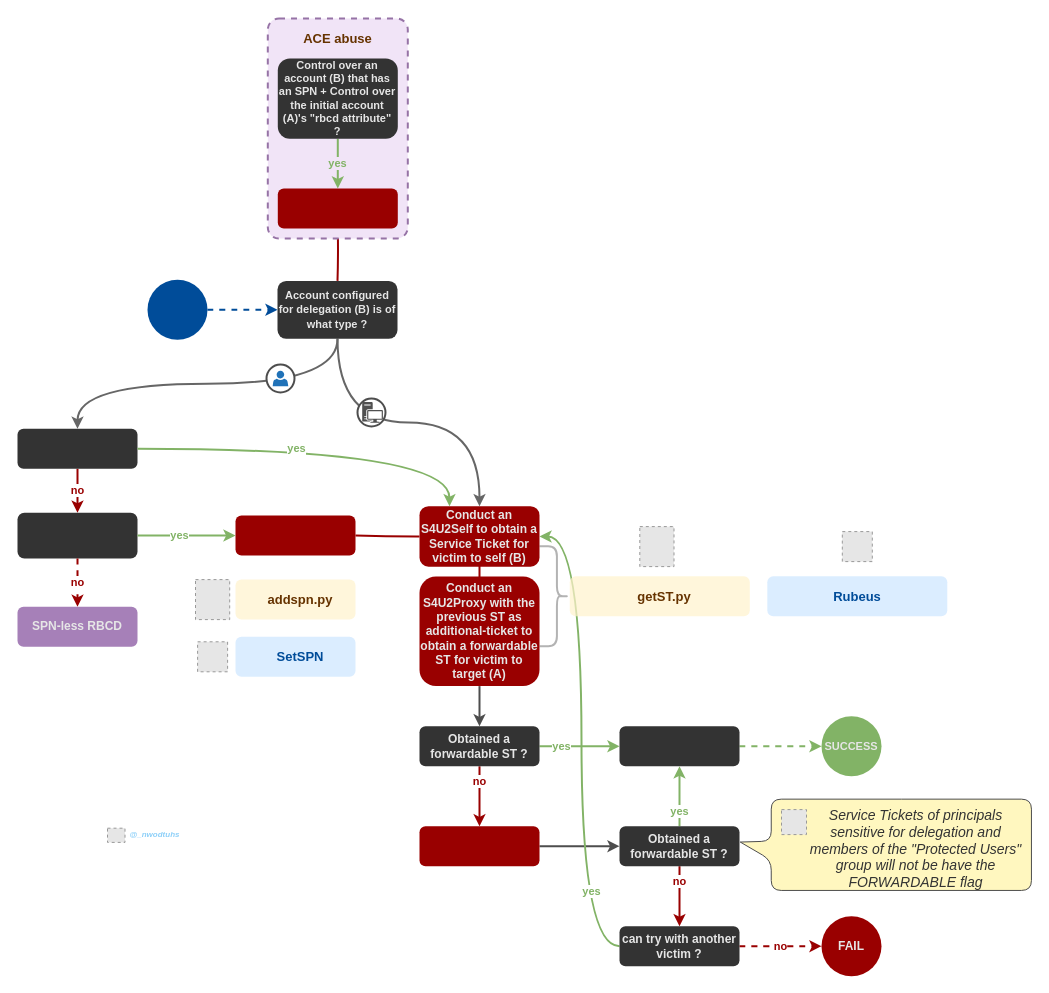
Image size: 1049x993. Some labels were removed from this diagram. Grey dashed boxes stand in for pictures. Here are the shapes that lost their labels. From the top down, the centre of each, then its label:
At point (337, 208): "Add B to A's rbcd attribute".
At point (177, 309): "START".
At point (77, 448): "has an SPN ?".
At point (77, 535): "Control over an account that can add an SPN to the user ?".
At point (295, 535): "add an SPN".
At point (679, 746): "Extract and use the ST with pass-the-ticket".
At point (479, 846): "Attempt a Bronze Bit (CVE-2020-17049) abuse".
